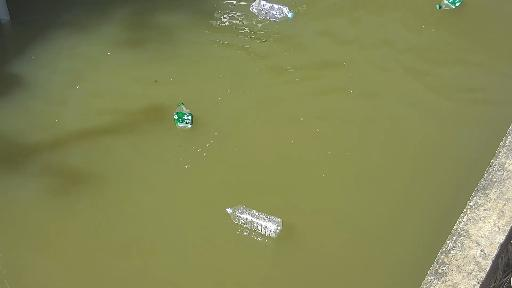plastic: (213, 186, 287, 244), (162, 93, 208, 146), (246, 0, 314, 29), (421, 0, 478, 14)
